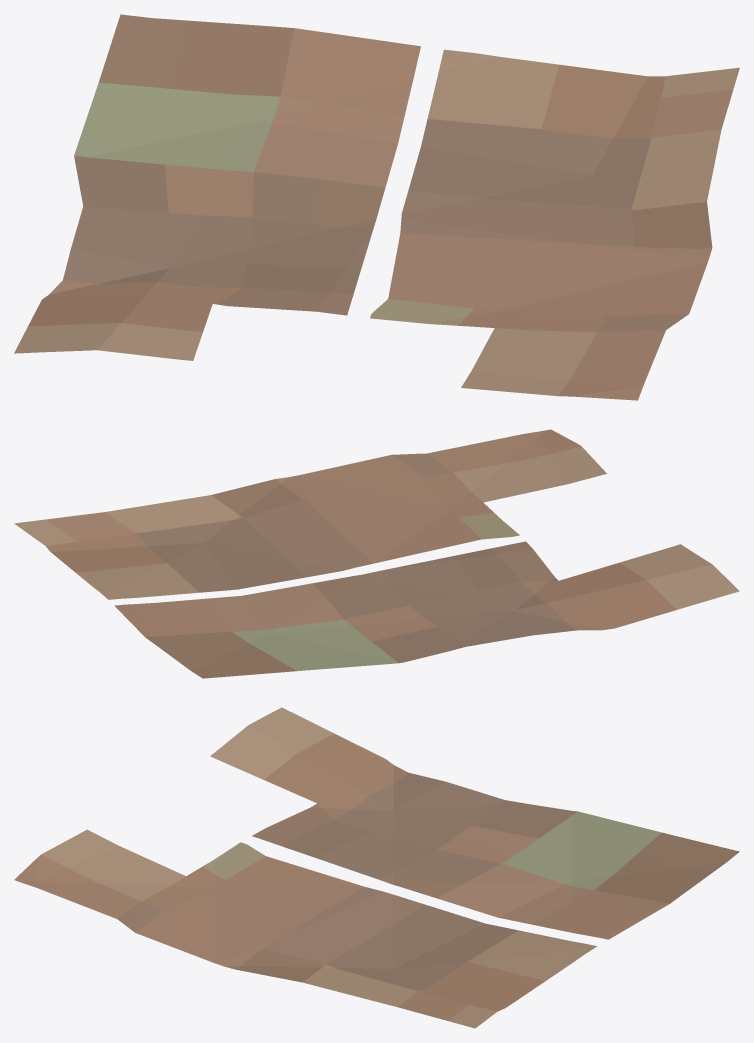
File: farm_-4_8_soil.glb
3 renders of one model, top to bottom at view 1: azimuth 30°, elevation 25°; view 2: azimuth 150°, elevation 25°; view 3: azimuth 270°, elevation 25°, orthographic. The views are drawn at different scales.
Visible parts, largest first — view 1: geometry_0; view 2: geometry_0; view 3: geometry_0.
Boxes of the visible parts, x1,y1,x2,y2 form: geometry_0: [14, 14, 739, 400]; geometry_0: [14, 429, 739, 678]; geometry_0: [14, 707, 739, 1028].
Size of the model in its own units: 325 by 16.45 by 325.
